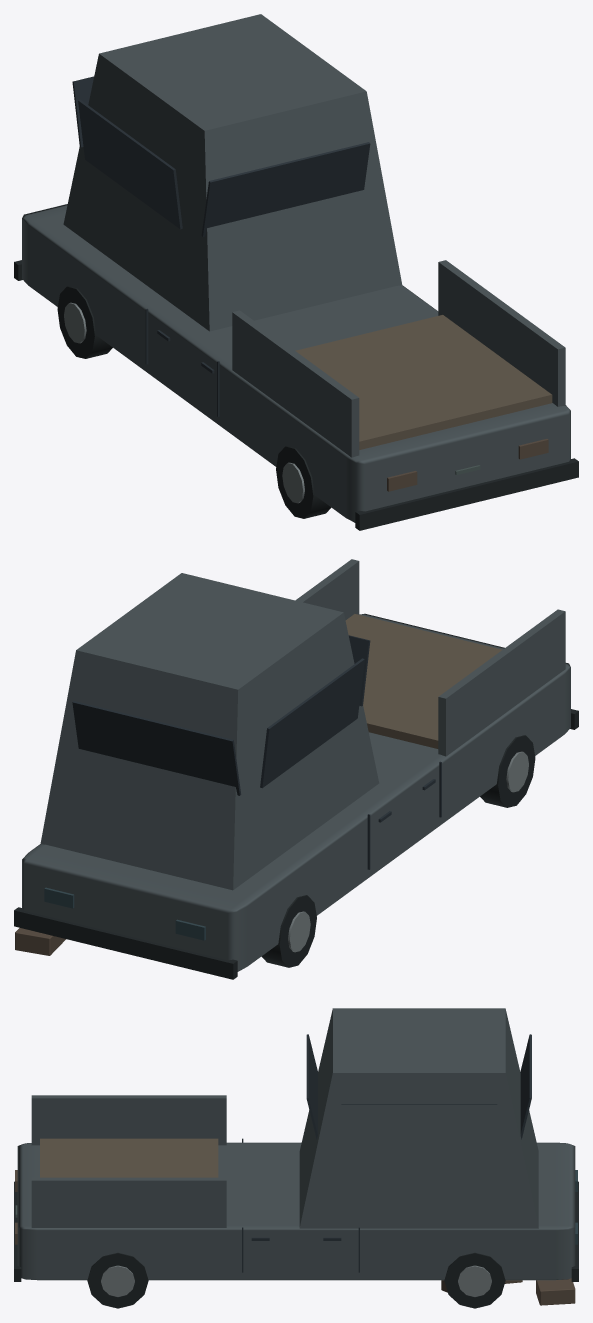
Rendered from small-truck-wreck-3.glb.
3 renders of one model, top to bottom at view 1: azimuth 30°, elevation 25°; view 2: azimuth 150°, elevation 25°; view 3: azimuth 270°, elevation 25°, orthographic. The views are drawn at different scales.
Visible parts, largest first — view 1: small-truck-wreck/2/KR-230-3; view 2: small-truck-wreck/2/KR-230-3; view 3: small-truck-wreck/2/KR-230-3.
Boxes of the visible parts, <box> form: small-truck-wreck/2/KR-230-3: <box>14,14,578,530</box>; small-truck-wreck/2/KR-230-3: <box>14,559,578,979</box>; small-truck-wreck/2/KR-230-3: <box>14,1008,578,1308</box>.
Bounding box in the file's own units: 2.4 × 2.8 × 6.28.
